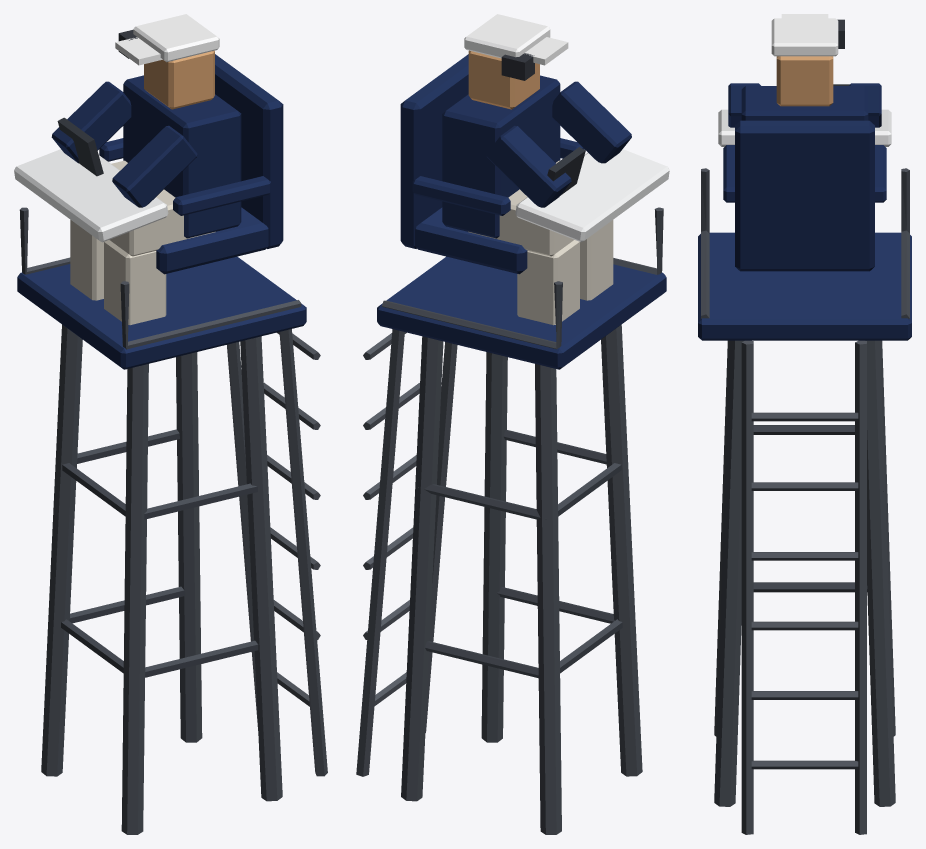
Rendered from UmpireChair.glb.
3 views of the same model, side by side, from view 1: azimuth 30°, elevation 25°; view 2: azimuth 150°, elevation 25°; view 3: azimuth 270°, elevation 25° (orthographic).
Parts seen in each view (by area): view 1: UmpireChair; view 2: UmpireChair; view 3: UmpireChair.
Part boxes in pixels (bbox=[...]): UmpireChair: bbox=[14, 14, 327, 834]; UmpireChair: bbox=[356, 14, 669, 834]; UmpireChair: bbox=[698, 14, 911, 834].
Size of the model in its own units: 4.17 by 12.33 by 3.2.
1 material, 1 textured.
